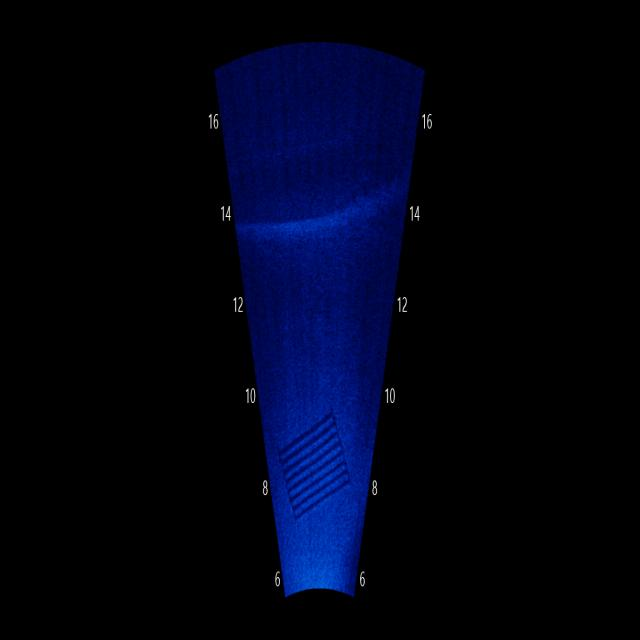square: (271, 399, 354, 528)
